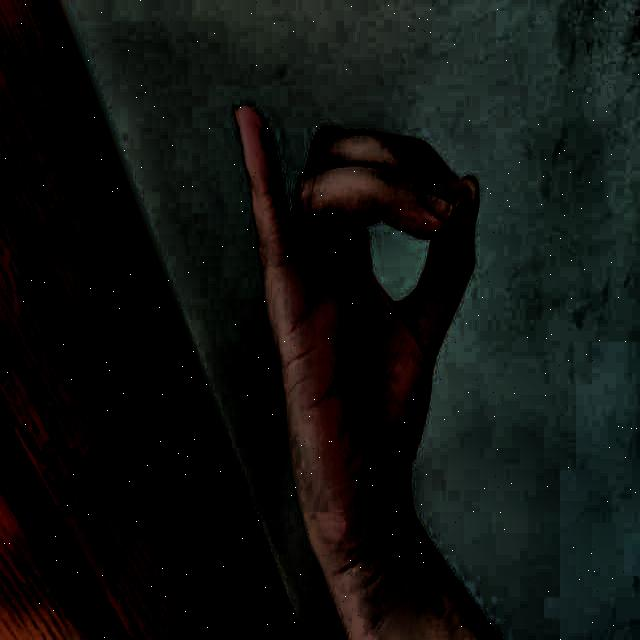Ou: (205, 61, 491, 584)
